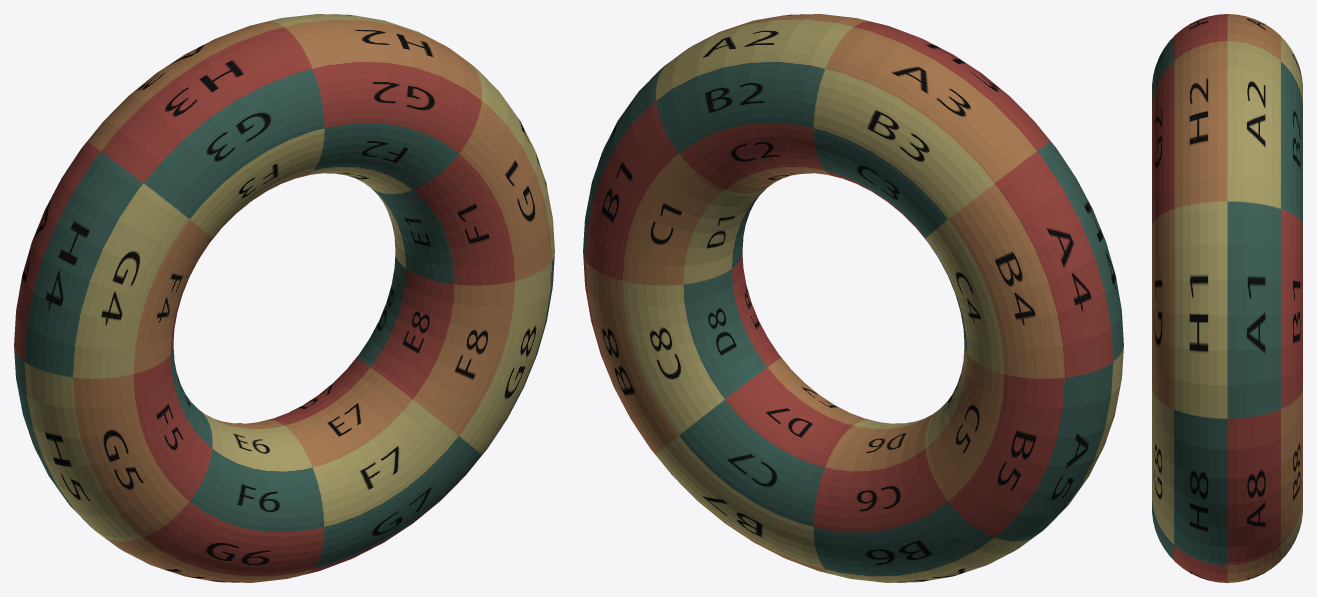
Rendered from texture_torus_R22_r26.glb.
3 renders of one model, left to right at view 1: azimuth 30°, elevation 25°; view 2: azimuth 150°, elevation 25°; view 3: azimuth 270°, elevation 25°, orthographic. The views are drawn at different scales.
Parts seen in each view (by area): view 1: world; view 2: world; view 3: world.
Part boxes in pixels (x1,y1,x2,y2): world: (14, 14, 554, 582); world: (583, 14, 1123, 582); world: (1152, 14, 1302, 582).
Bounding box in the file's own units: 33.6 × 33.53 × 8.92.
1 material, 1 textured.
